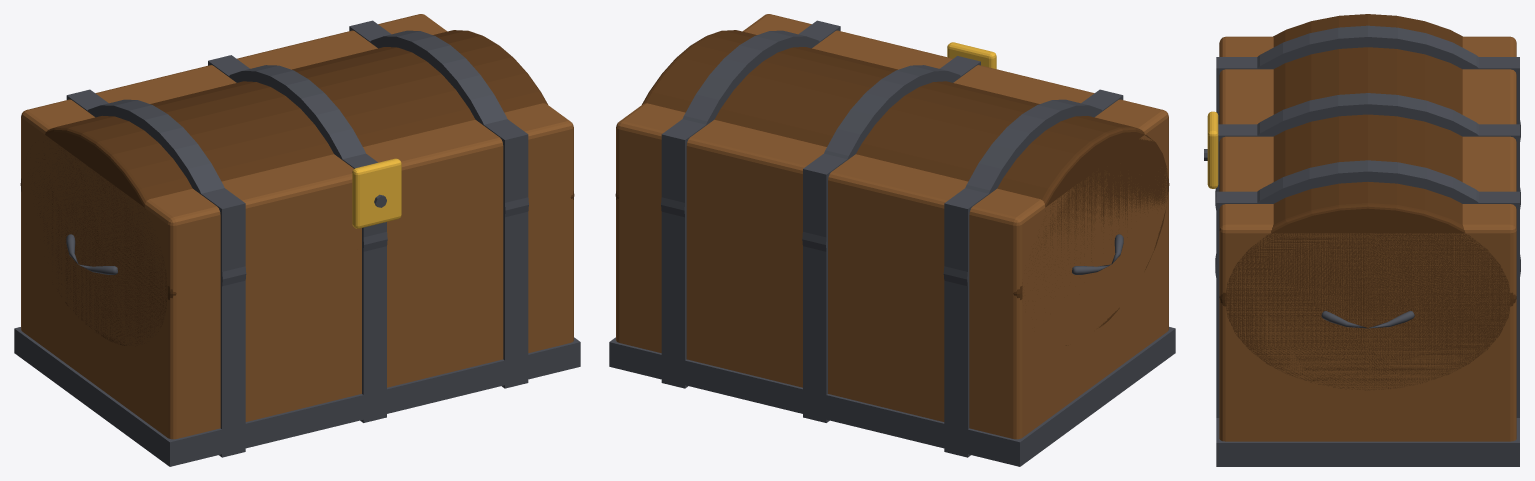
The model's file is baul.glb.
The picture shows the model from 3 angles, left to right: view 1: azimuth 30°, elevation 25°; view 2: azimuth 150°, elevation 25°; view 3: azimuth 270°, elevation 25°; orthographic projection. The views are drawn at different scales.
Visible parts, largest first — view 1: caja, tapa, cantonera, fleje2, fleje0, fleje1, fleje_tapa0, fleje_tapa1, fleje_tapa2, cerradura; view 2: caja, tapa, cantonera, fleje0, fleje1, fleje2, fleje_tapa1, fleje_tapa2, fleje_tapa0, cerradura; view 3: caja, tapa, cantonera, fleje_tapa2, fleje_tapa1, fleje_tapa0, fleje2, fleje0, fleje1, cerradura, asa1.
Boxes of the visible parts, <box> form: caja: <box>21,14,573,439</box>; tapa: <box>20,30,574,346</box>; cantonera: <box>14,327,580,466</box>; fleje2: <box>349,20,528,388</box>; fleje0: <box>66,89,245,457</box>; fleje1: <box>208,55,386,422</box>; fleje_tapa0: <box>88,99,246,298</box>; fleje_tapa1: <box>229,65,387,255</box>; fleje_tapa2: <box>370,30,528,217</box>; cerradura: <box>352,158,401,228</box>; caja: <box>616,14,1168,439</box>; tapa: <box>615,30,1169,345</box>; cantonera: <box>609,327,1175,466</box>; fleje0: <box>944,89,1123,457</box>; fleje1: <box>803,56,980,422</box>; fleje2: <box>661,20,840,388</box>; fleje_tapa1: <box>802,65,961,264</box>; fleje_tapa2: <box>661,30,819,229</box>; fleje_tapa0: <box>943,99,1102,286</box>; cerradura: <box>947,42,996,68</box>; caja: <box>1219,36,1516,441</box>; tapa: <box>1219,14,1516,390</box>; cantonera: <box>1216,418,1519,466</box>; fleje_tapa2: <box>1215,160,1520,291</box>; fleje_tapa1: <box>1215,93,1520,209</box>; fleje_tapa0: <box>1218,25,1520,141</box>; fleje2: <box>1216,191,1519,417</box>; fleje0: <box>1216,57,1519,124</box>; fleje1: <box>1216,124,1519,191</box>; cerradura: <box>1207,111,1218,188</box>; asa1: <box>1321,311,1414,328</box>.
Size of the model in its own units: 0.93 by 0.5694 by 0.597.
